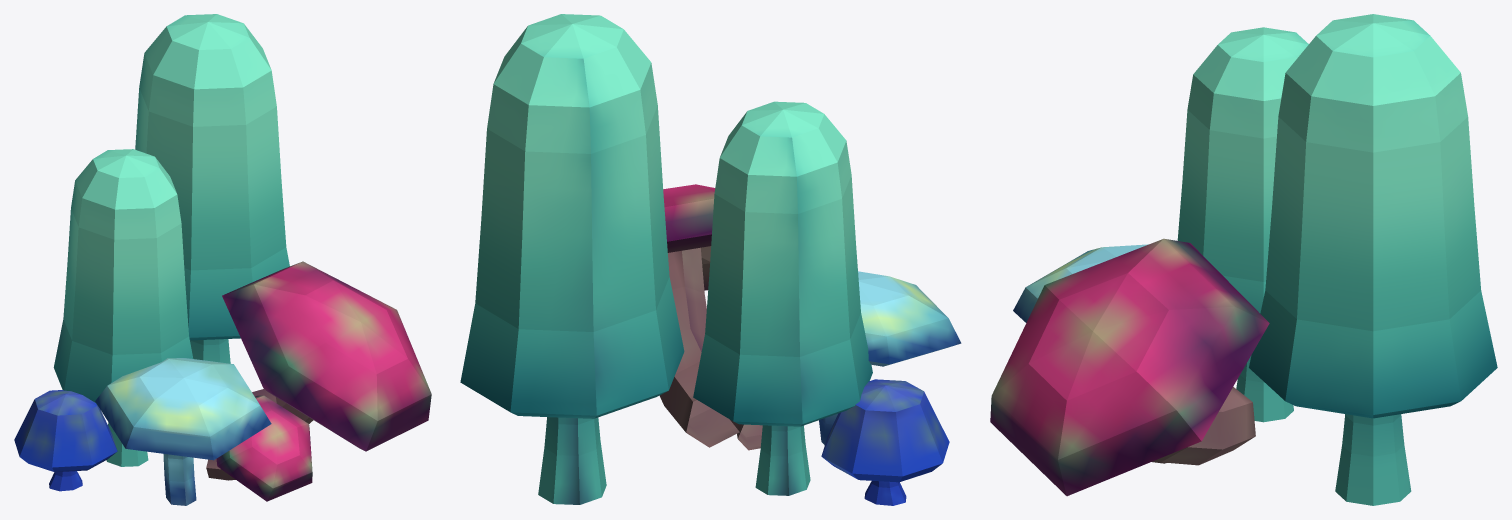
File: mushroom_cluster_02.fbx
3 views of the same model, side by side, from view 1: azimuth 30°, elevation 25°; view 2: azimuth 150°, elevation 25°; view 3: azimuth 270°, elevation 25° (orthographic). The views are drawn at different scales.
Parts seen in each view (by area): view 1: Mushroom_cluster_02; view 2: Mushroom_cluster_02; view 3: Mushroom_cluster_02.
Part boxes in pixels (x1,y1,x2,y2): Mushroom_cluster_02: (14,14,431,505); Mushroom_cluster_02: (460,14,961,505); Mushroom_cluster_02: (990,14,1497,505).
Size of the model in its own units: 0.7904 by 0.8055 by 0.7789.
Materials: 1 (1 with a texture image).
